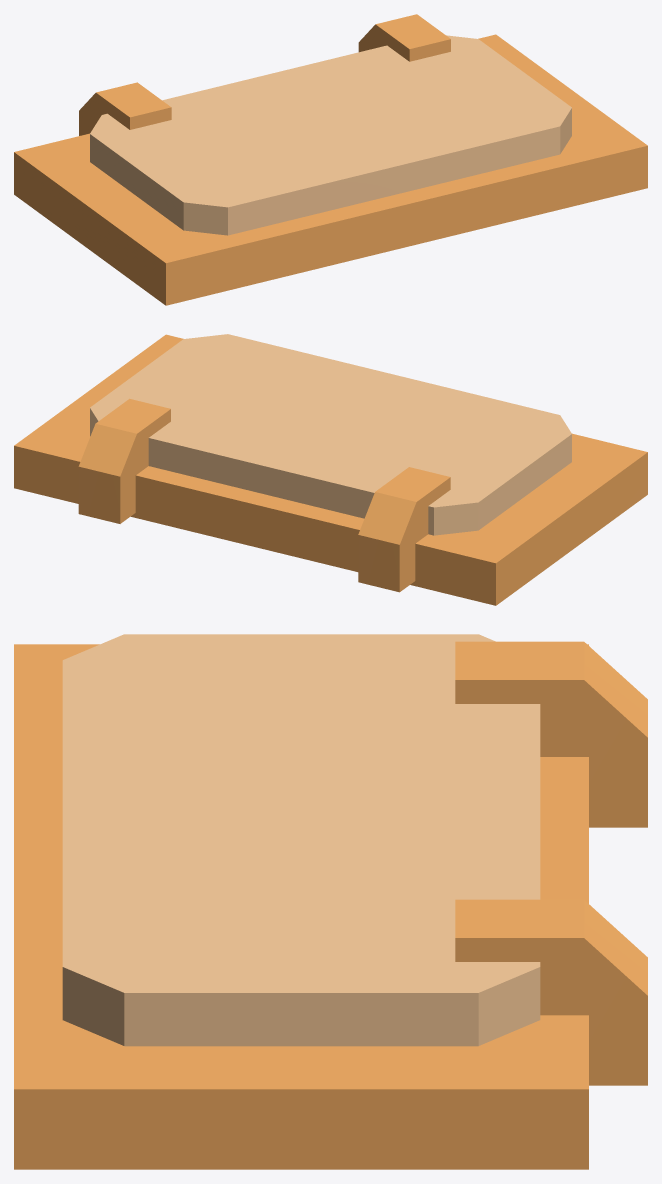
The model's file is Door_003.glb.
3 renders of one model, top to bottom at view 1: azimuth 30°, elevation 25°; view 2: azimuth 150°, elevation 25°; view 3: azimuth 270°, elevation 25°, orthographic. The views are drawn at different scales.
Visible parts, largest first — view 1: Door_003; view 2: Door_003; view 3: Door_003.
Boxes of the visible parts, <box> form: Door_003: <box>14,14,647,305</box>; Door_003: <box>14,334,647,605</box>; Door_003: <box>14,634,647,1169</box>.
Size of the model in its own units: 1.1 by 0.1816 by 0.6623.
1 material, 1 textured.
